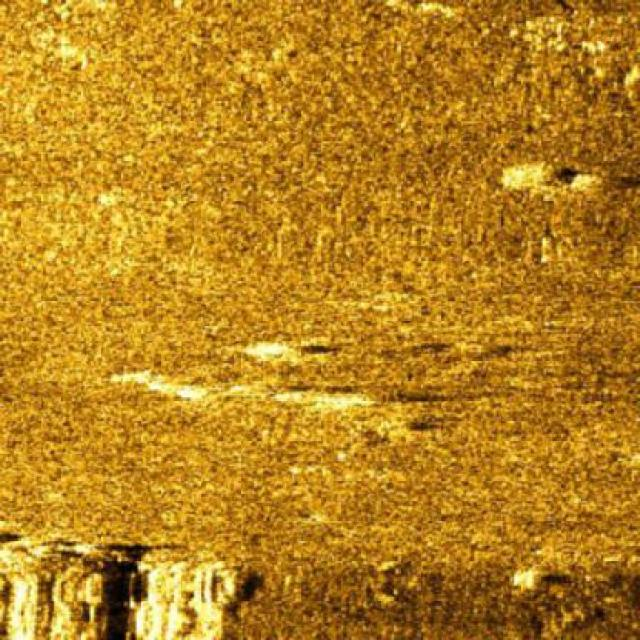bedrock group: (0, 518, 234, 638)
